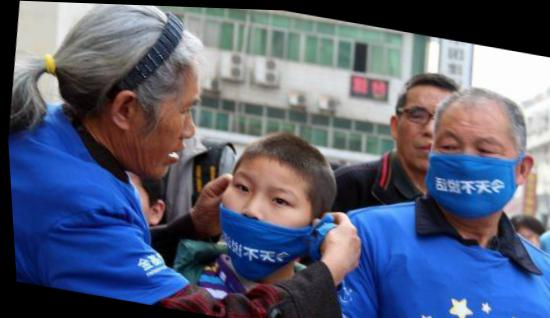NONE: (113, 76, 207, 183), (387, 86, 462, 172)
OK: (417, 116, 515, 212)
WRONG: (214, 166, 313, 264)
